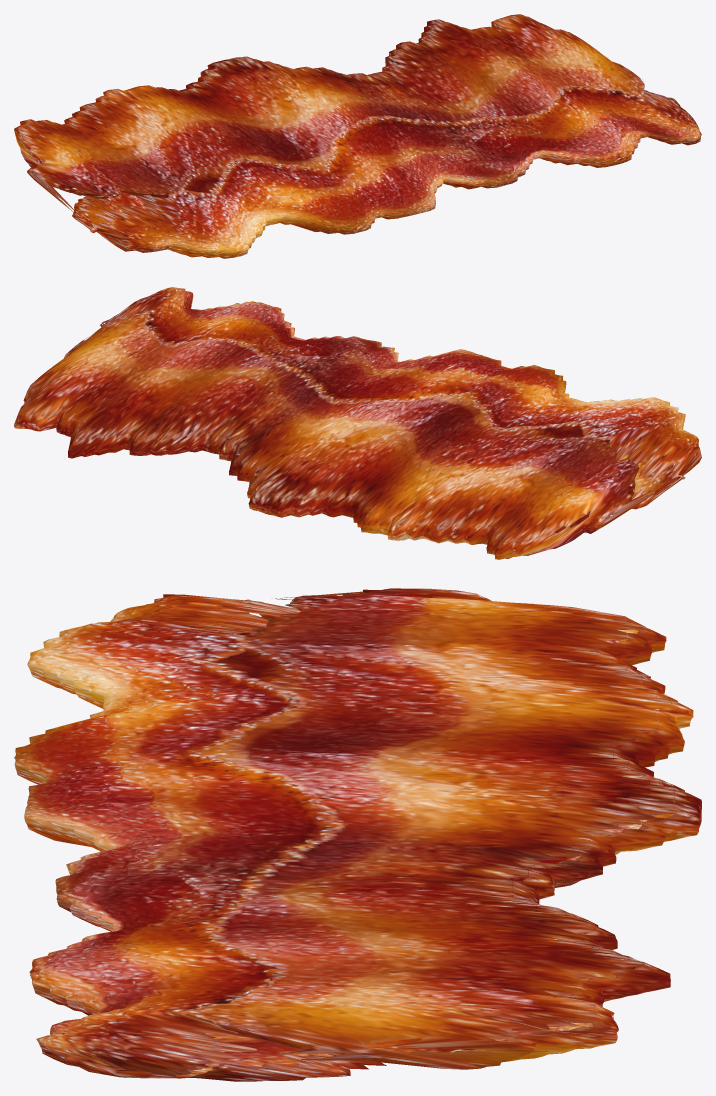
Rendered from bacon.glb.
The picture shows the model from 3 angles, top to bottom: view 1: azimuth 30°, elevation 25°; view 2: azimuth 150°, elevation 25°; view 3: azimuth 270°, elevation 25°; orthographic projection. The views are drawn at different scales.
Visible parts, largest first — view 1: bacon; view 2: bacon; view 3: bacon.
Part boxes in pixels (x1=…): bacon: x1=14, y1=14, x2=701, y2=258; bacon: x1=14, y1=287, x2=701, y2=559; bacon: x1=14, y1=588, x2=701, y2=1081.
Size of the model in its own units: 1.09 by 0.065 by 0.67.
1 material, 1 textured.
